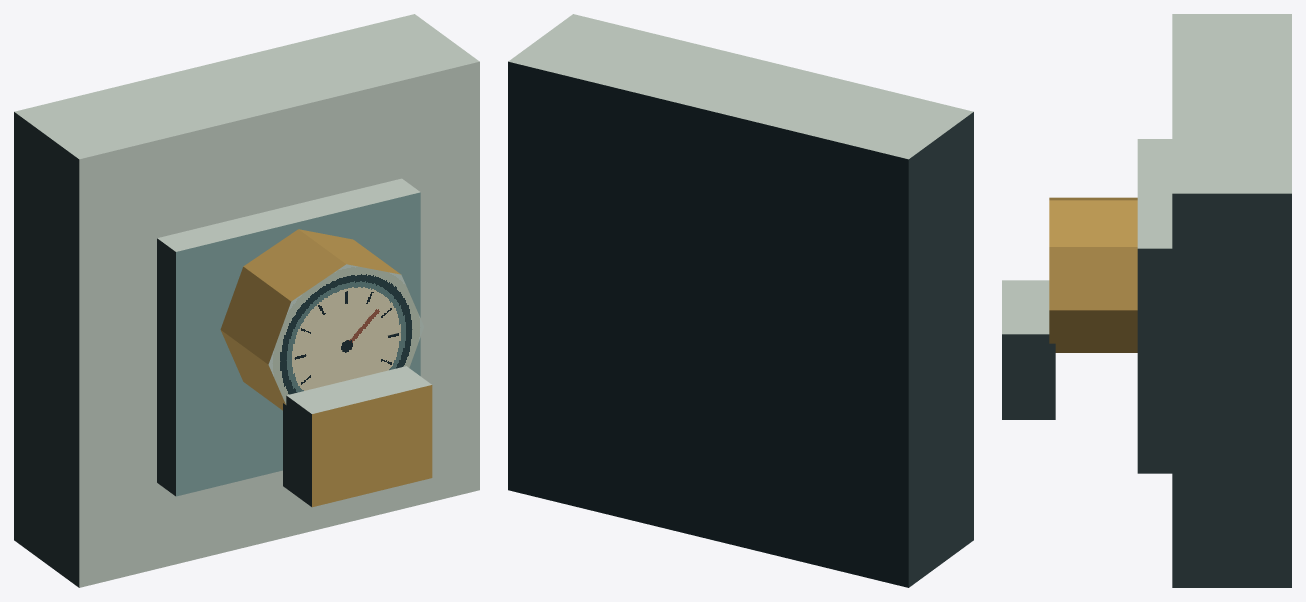
File: toma_agua_pared.glb
3 views of the same model, side by side, from view 1: azimuth 30°, elevation 25°; view 2: azimuth 150°, elevation 25°; view 3: azimuth 270°, elevation 25° (orthographic). The views are drawn at different scales.
Visible parts, largest first — view 1: ELECTRICO; view 2: ELECTRICO; view 3: ELECTRICO.
Part boxes in pixels (bbox=[...]): ELECTRICO: bbox=[14, 14, 479, 587]; ELECTRICO: bbox=[508, 14, 973, 587]; ELECTRICO: bbox=[1002, 14, 1291, 587].
Size of the model in its own units: 0.2057 by 0.2103 by 0.1402.
1 material, 1 textured.
